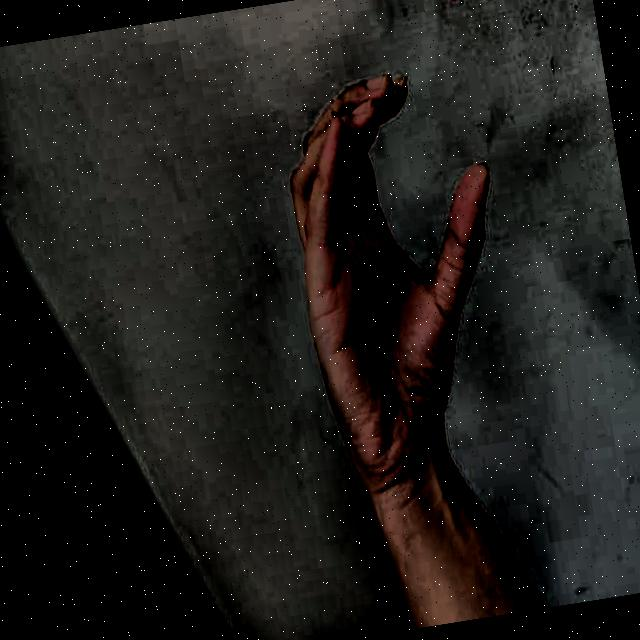A: (243, 28, 562, 516)
